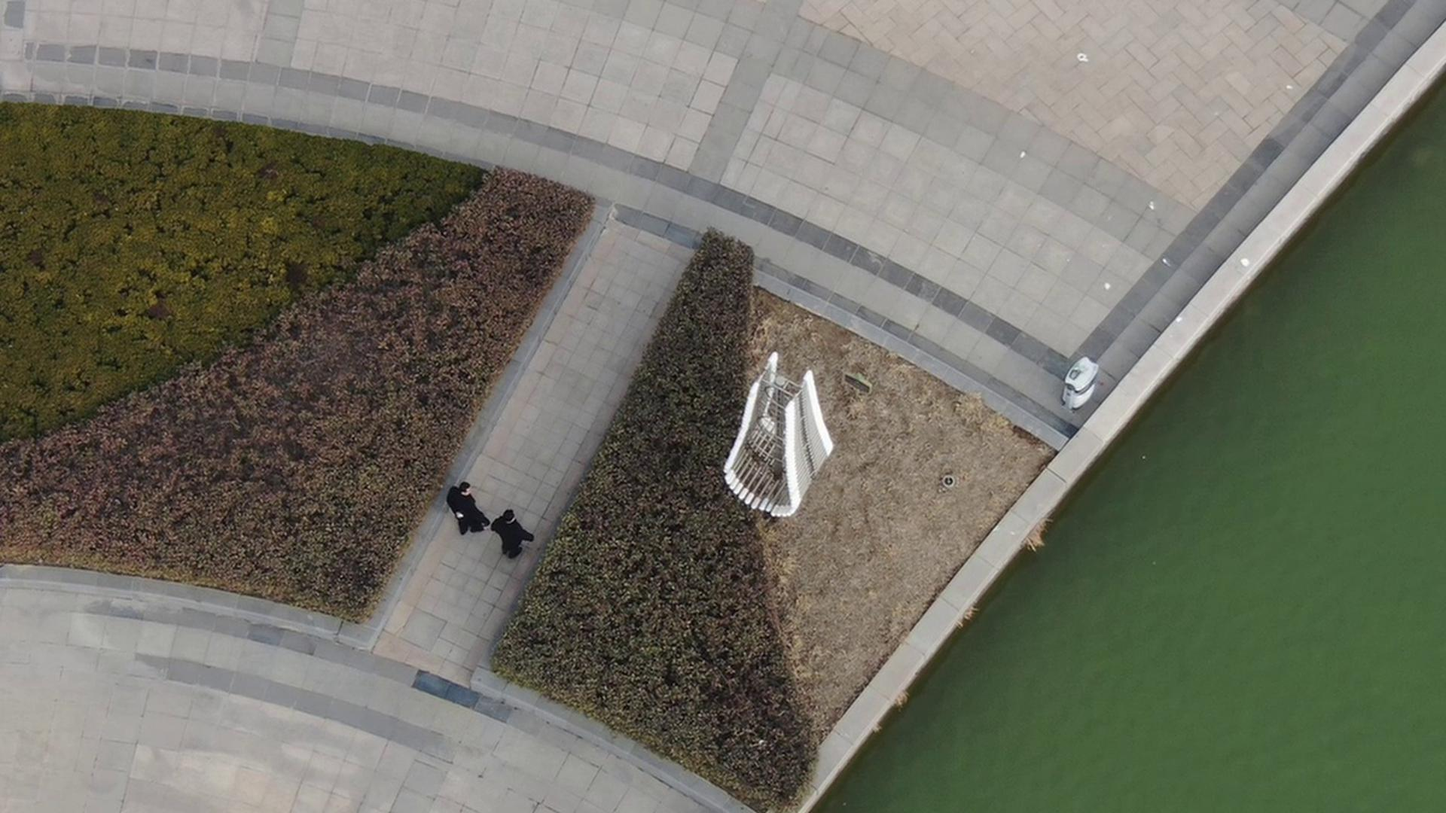human: (484, 491, 529, 563), (444, 470, 481, 538)
